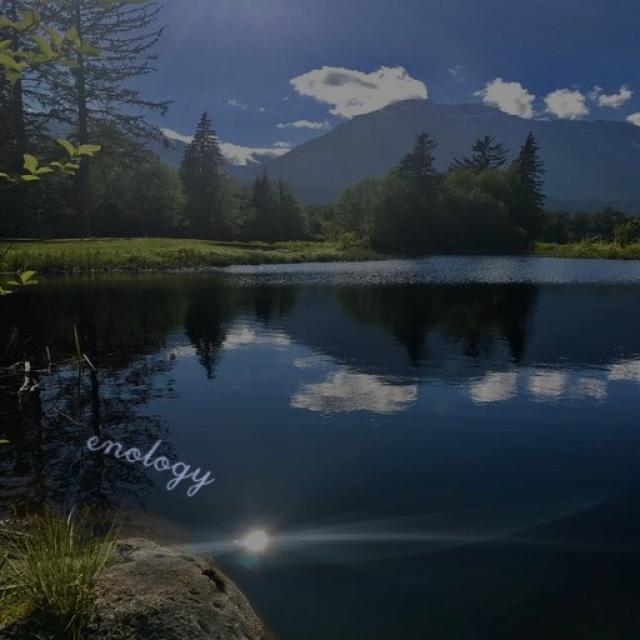watermark: (75, 415, 242, 493)
